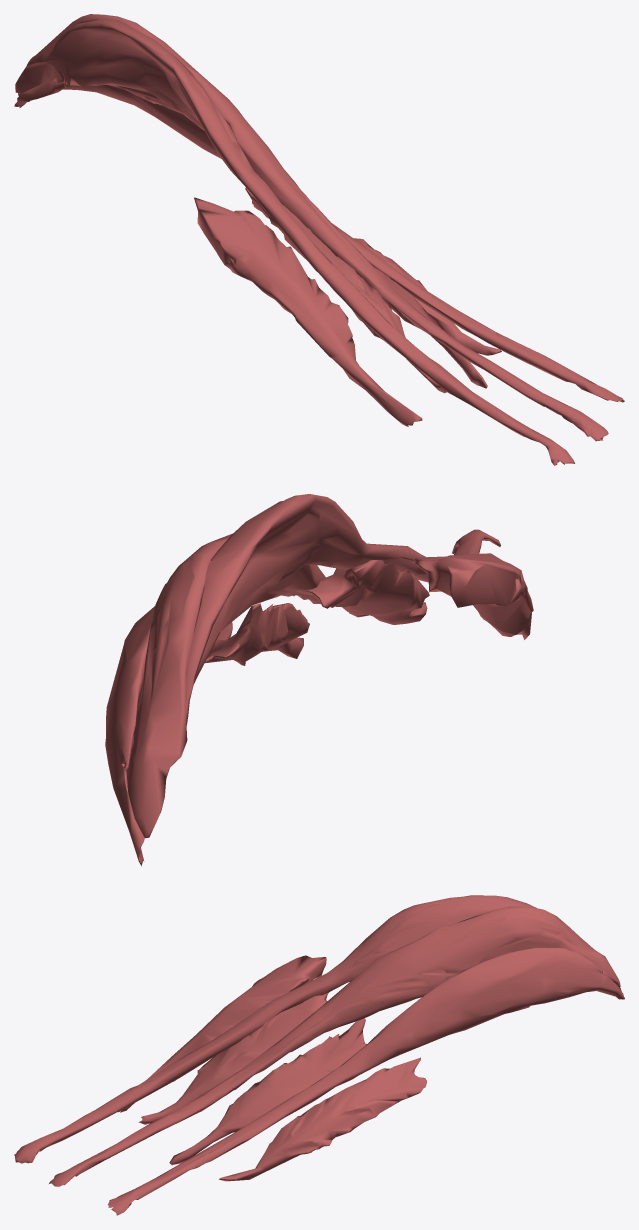
File: completion3-foot-left.glb
3 views of the same model, one above another, from view 1: azimuth 30°, elevation 25°; view 2: azimuth 150°, elevation 25°; view 3: azimuth 270°, elevation 25° (orthographic). The views are drawn at different scales.
Parts seen in each view (by area): view 1: zanatomy_extensor-digitorum-brevis-l, zanatomy_dorsal-interossei-foot-l; view 2: zanatomy_extensor-digitorum-brevis-l, zanatomy_dorsal-interossei-foot-l; view 3: zanatomy_extensor-digitorum-brevis-l, zanatomy_dorsal-interossei-foot-l.
Boxes of the visible parts, left/top/right/bottom form: zanatomy_extensor-digitorum-brevis-l: left=14, top=14, right=624, bottom=465; zanatomy_dorsal-interossei-foot-l: left=194, top=188, right=501, bottom=426; zanatomy_extensor-digitorum-brevis-l: left=105, top=494, right=500, bottom=866; zanatomy_dorsal-interossei-foot-l: left=205, top=553, right=533, bottom=665; zanatomy_extensor-digitorum-brevis-l: left=14, top=895, right=624, bottom=1215; zanatomy_dorsal-interossei-foot-l: left=118, top=955, right=426, bottom=1181.
Size of the model in its own units: 0.0685 by 0.0579 by 0.1487.
